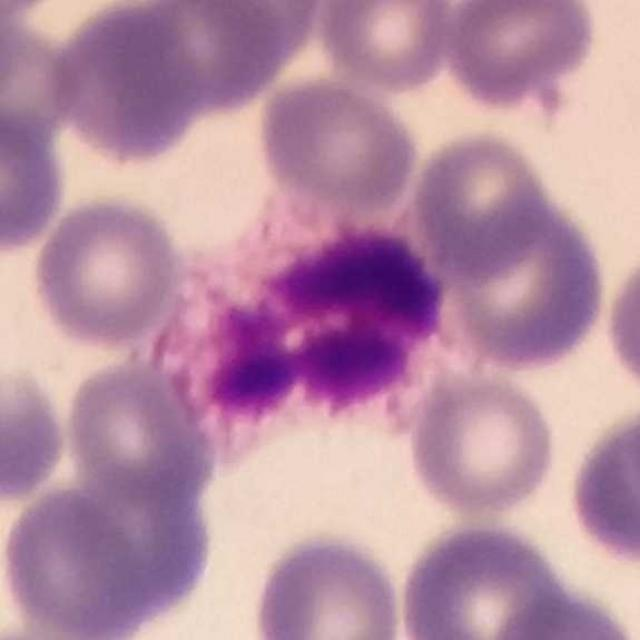Neutrophil: (134, 194, 468, 455)
RBC: (440, 185, 612, 374), (45, 1, 207, 167), (28, 190, 186, 352), (253, 74, 423, 222), (60, 355, 218, 508), (404, 368, 561, 521), (394, 514, 578, 640), (409, 125, 552, 278), (111, 0, 292, 116), (68, 468, 210, 607), (10, 497, 140, 640), (247, 526, 407, 640), (440, 0, 602, 108), (313, 0, 458, 93), (563, 401, 640, 573), (0, 102, 71, 258), (0, 359, 72, 507), (176, 0, 327, 63), (1, 7, 71, 142), (486, 586, 639, 640), (600, 240, 640, 407), (1, 0, 29, 109)
